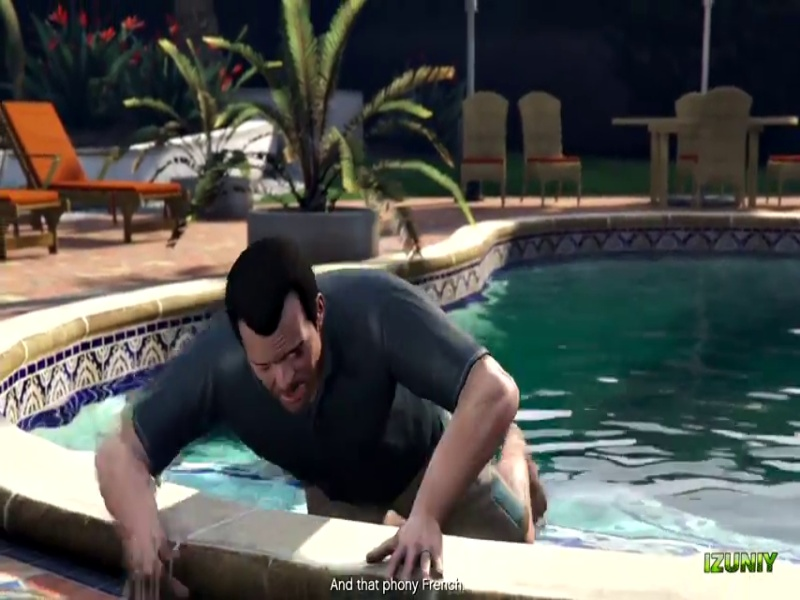human: (60, 228, 562, 585)
